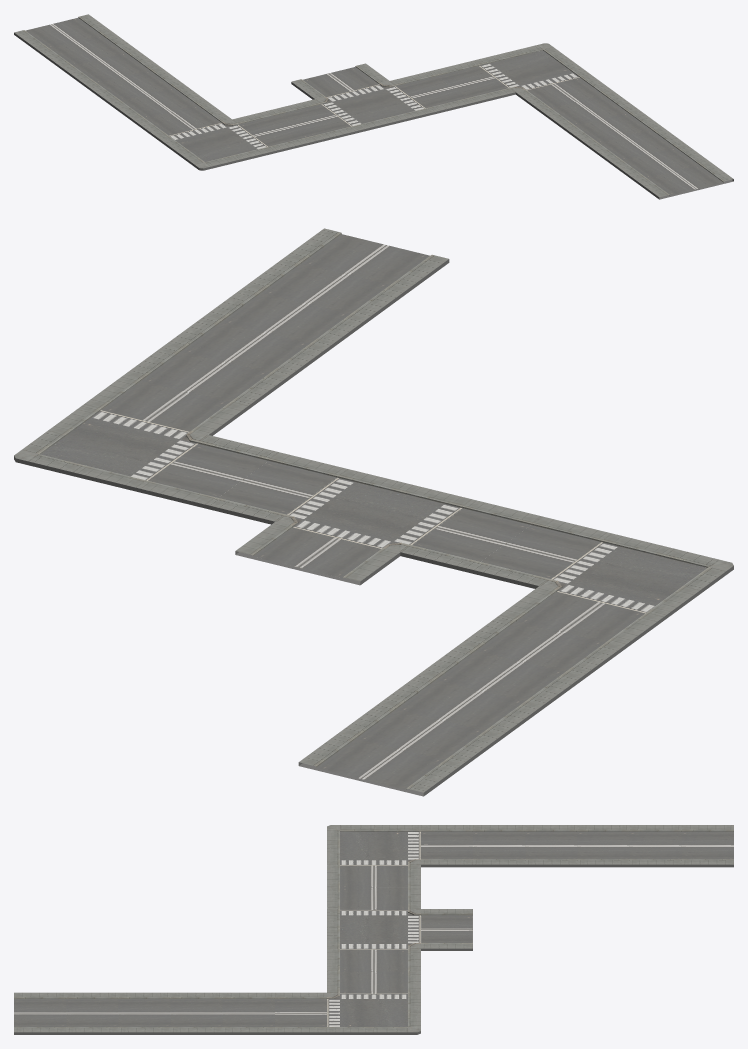
File: city1-2.fbx
3 views of the same model, one above another, from view 1: azimuth 30°, elevation 25°; view 2: azimuth 150°, elevation 25°; view 3: azimuth 270°, elevation 25° (orthographic). The views are drawn at different scales.
Parts seen in each view (by area): view 1: track; view 2: track; view 3: track.
Boxes of the visible parts, <box> form: track: <box>14,14,733,199</box>; track: <box>14,228,733,796</box>; track: <box>14,825,733,1034</box>.
Size of the model in its own units: 401 by 2.28 by 589.
